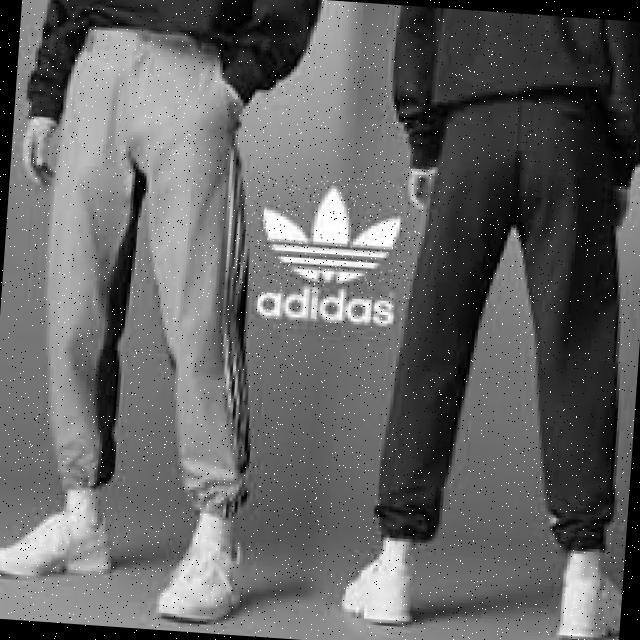Adidas: (236, 170, 426, 305)
